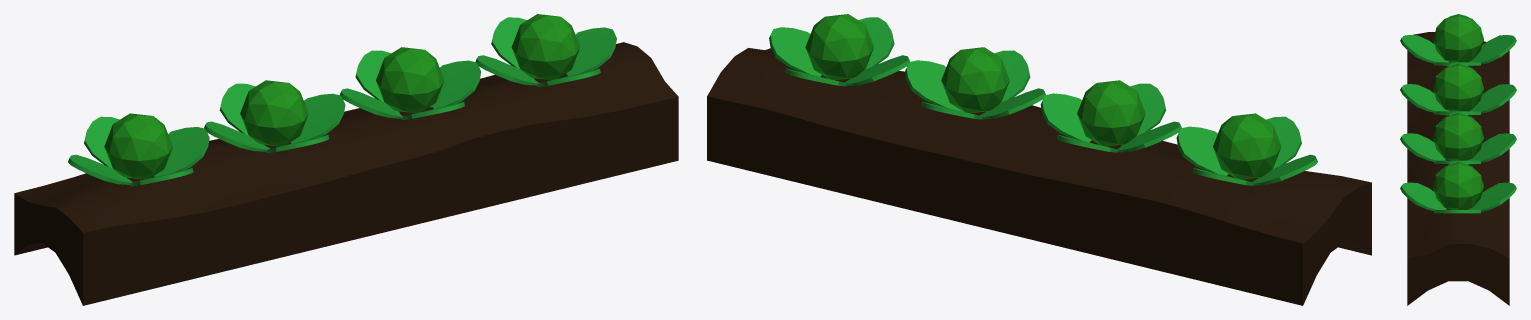
Rendered from lettuce.FBX.
3 renders of one model, left to right at view 1: azimuth 30°, elevation 25°; view 2: azimuth 150°, elevation 25°; view 3: azimuth 270°, elevation 25°, orthographic. The views are drawn at different scales.
Parts seen in each view (by area): view 1: Box001, GeoSphere005, GeoSphere006, GeoSphere003, GeoSphere004, Box025, Box029, Box017, Box021, Box022, Box014, Box018 (+5 smaller); view 2: Box001, GeoSphere005, GeoSphere003, GeoSphere006, GeoSphere004, Box021, Box017, Box029, Box025, Box023, Box019, Box015 (+5 smaller); view 3: Box001, GeoSphere006, GeoSphere005, GeoSphere004, GeoSphere003, Box027, Box018, Box023, Box026, Box022, Box014, Box019 (+5 smaller).
Part boxes in pixels (left/top/right/bottom): Box001: left=14, top=42, right=678, bottom=305; GeoSphere005: left=240, top=80, right=308, bottom=146; GeoSphere006: left=104, top=113, right=172, bottom=179; GeoSphere003: left=511, top=14, right=580, bottom=79; GeoSphere004: left=376, top=47, right=444, bottom=113; Box025: left=290, top=93, right=345, bottom=143; Box029: left=154, top=127, right=209, bottom=176; Box017: left=566, top=27, right=616, bottom=76; Box021: left=429, top=60, right=480, bottom=108; Box022: left=219, top=83, right=255, bottom=135; Box014: left=491, top=17, right=526, bottom=69; Box018: left=355, top=50, right=390, bottom=102; Box001: left=707, top=48, right=1371, bottom=305; GeoSphere005: left=1077, top=80, right=1145, bottom=146; GeoSphere003: left=805, top=14, right=873, bottom=80; GeoSphere006: left=1213, top=113, right=1281, bottom=179; GeoSphere004: left=941, top=47, right=1009, bottom=113; Box021: left=905, top=60, right=963, bottom=111; Box017: left=769, top=27, right=821, bottom=76; Box029: left=1176, top=126, right=1228, bottom=175; Box025: left=1040, top=93, right=1091, bottom=142; Box023: left=1130, top=83, right=1166, bottom=135; Box019: left=994, top=50, right=1030, bottom=102; Box015: left=858, top=17, right=894, bottom=69; Box001: left=1407, top=32, right=1509, bottom=305; GeoSphere006: left=1433, top=14, right=1483, bottom=62; GeoSphere005: left=1433, top=63, right=1483, bottom=111; GeoSphere004: left=1433, top=112, right=1483, bottom=160; GeoSphere003: left=1433, top=161, right=1483, bottom=209; Box027: left=1400, top=34, right=1449, bottom=66; Box018: left=1467, top=133, right=1516, bottom=164; Box023: left=1400, top=84, right=1449, bottom=115; Box026: left=1469, top=35, right=1516, bottom=66; Box022: left=1470, top=84, right=1516, bottom=115; Box014: left=1468, top=182, right=1516, bottom=213; Box019: left=1400, top=133, right=1445, bottom=161.
Bounding box in the file's own units: 100 × 22.98 × 22.89.
